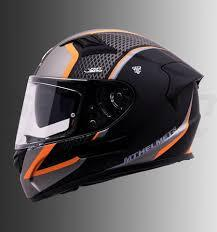helmet: (4, 10, 217, 228)
